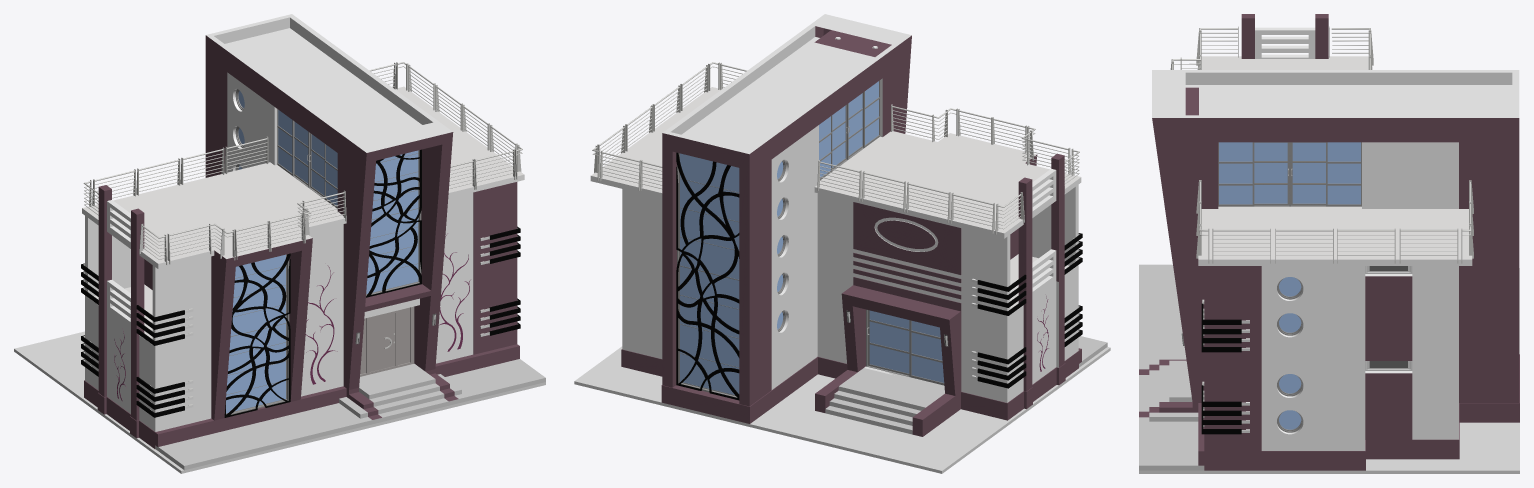
File: house3.fbx
The picture shows the model from 3 angles, left to right: view 1: azimuth 30°, elevation 25°; view 2: azimuth 150°, elevation 25°; view 3: azimuth 270°, elevation 25°; orthographic projection. The views are drawn at different scales.
Visible parts, largest first — view 1: Modern House, G-__557076, G-__556977, Group#5.001, G-__556986, Group#5.005, G-__557085, Group#5, G-__557031, Group#5.004, MW-10109, G-__558219 (+2 smaller); view 2: Modern House, G-__557076, G-__556977, Group#5.003, Group#5.002, G-__557022, G-__558327, MW-10109.004, G-__558246, MW-10109.001, G-__558219, G-__558318 (+1 smaller); view 3: Modern House, G-__557076, G-__556977, MW-10109.003, MW-10109.002, G-__558300, G-__558273, G-__557796, G-__557760, G-__557724, G-__557832, G-__558291 (+6 smaller).
Part boxes in pixels (x1,y1,x2,y2): Modern House: (82, 14, 524, 431); G-__557076: (84, 344, 545, 470); G-__556977: (14, 331, 545, 473); Group#5.001: (226, 323, 288, 414); G-__556986: (224, 253, 290, 417); Group#5.005: (366, 208, 421, 295); G-__557085: (360, 306, 414, 376); Group#5: (230, 254, 289, 336); G-__557031: (366, 149, 421, 297); Group#5.004: (371, 150, 419, 219); MW-10109: (278, 110, 292, 172); G-__558219: (294, 122, 308, 183); Modern House: (590, 14, 1081, 406); G-__557076: (621, 336, 1107, 436); G-__556977: (574, 346, 1110, 473); Group#5.003: (678, 266, 739, 397); Group#5.002: (677, 153, 739, 280); G-__557022: (676, 152, 739, 400); G-__558327: (869, 310, 909, 373); MW-10109.004: (911, 321, 944, 382); G-__558246: (848, 93, 862, 155); MW-10109.001: (865, 81, 878, 144); G-__558219: (832, 105, 845, 167); G-__558318: (866, 309, 944, 385); Modern House: (1152, 14, 1519, 451); G-__557076: (1139, 264, 1519, 470); G-__556977: (1139, 268, 1519, 473); MW-10109.003: (1219, 142, 1252, 204); MW-10109.002: (1327, 142, 1360, 204); G-__558300: (1254, 142, 1287, 203); G-__558273: (1292, 142, 1325, 203); G-__557796: (1337, 229, 1394, 255); G-__557760: (1213, 229, 1270, 255); G-__557724: (1276, 229, 1332, 255); G-__557832: (1400, 229, 1457, 255); G-__558291: (1218, 142, 1289, 206).
Bounding box in the file's own units: 1457 × 1015 × 1139.
